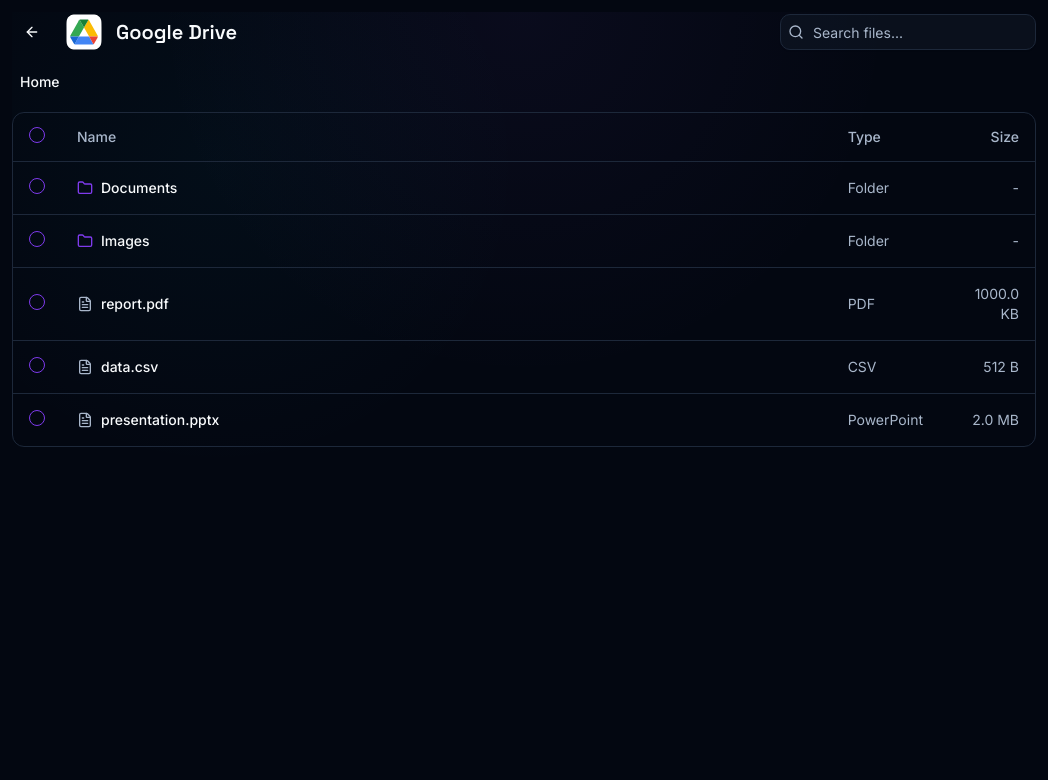
Test case: FileBrowser › File Selection › should toggle selection when clicking file row
This screenshot has width=1048, height=780.
Check: the text "report.pdf" is shown, box [101, 294, 169, 314]
Click the text "report.pdf" at (524, 304), box [13, 267, 1035, 340]
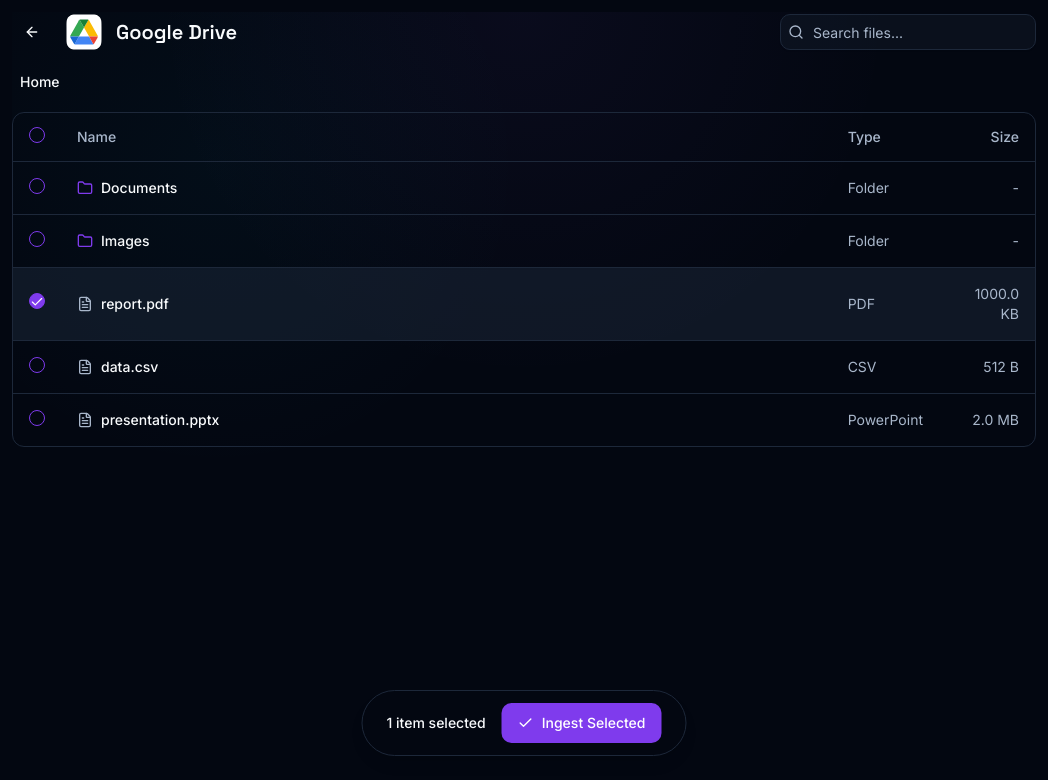
Check: the text "1 item selected" is shown, box [386, 713, 486, 733]
